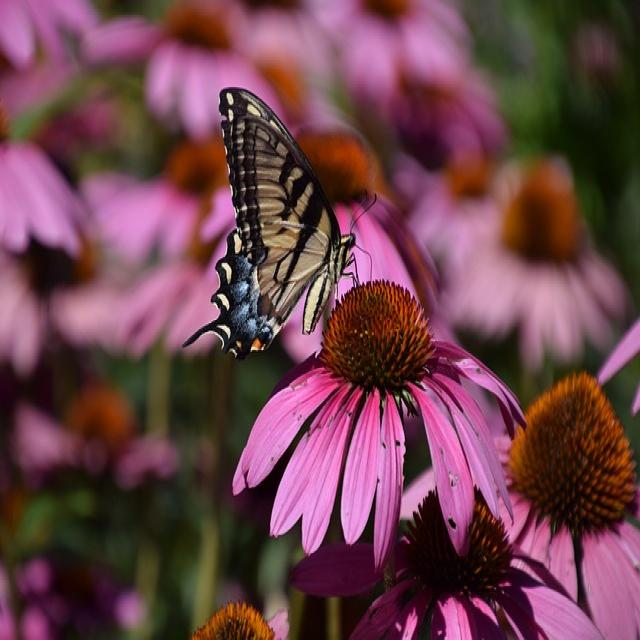butterfly: (184, 88, 355, 358)
